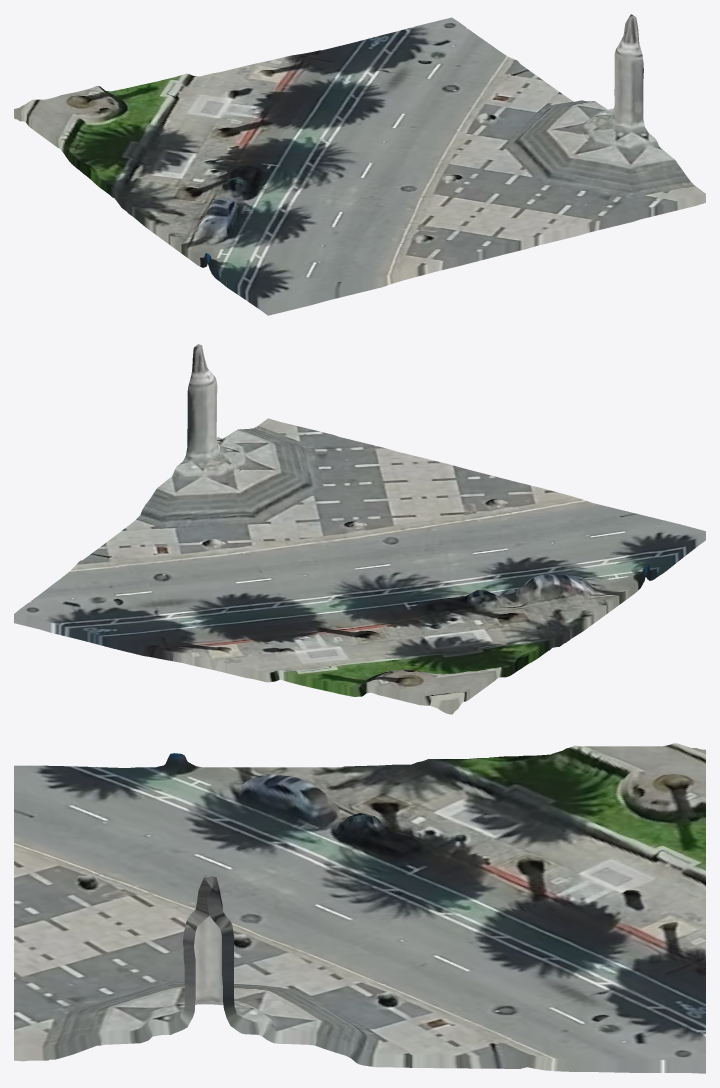
The model's file is z20-167789-405223-h0-yup-uvflip-v3-world.glb.
The picture shows the model from 3 angles, top to bottom: view 1: azimuth 30°, elevation 25°; view 2: azimuth 150°, elevation 25°; view 3: azimuth 270°, elevation 25°; orthographic projection. The views are drawn at different scales.
Size of the model in its own units: 30.16 by 9.56 by 30.32.
1 material, 1 textured.
